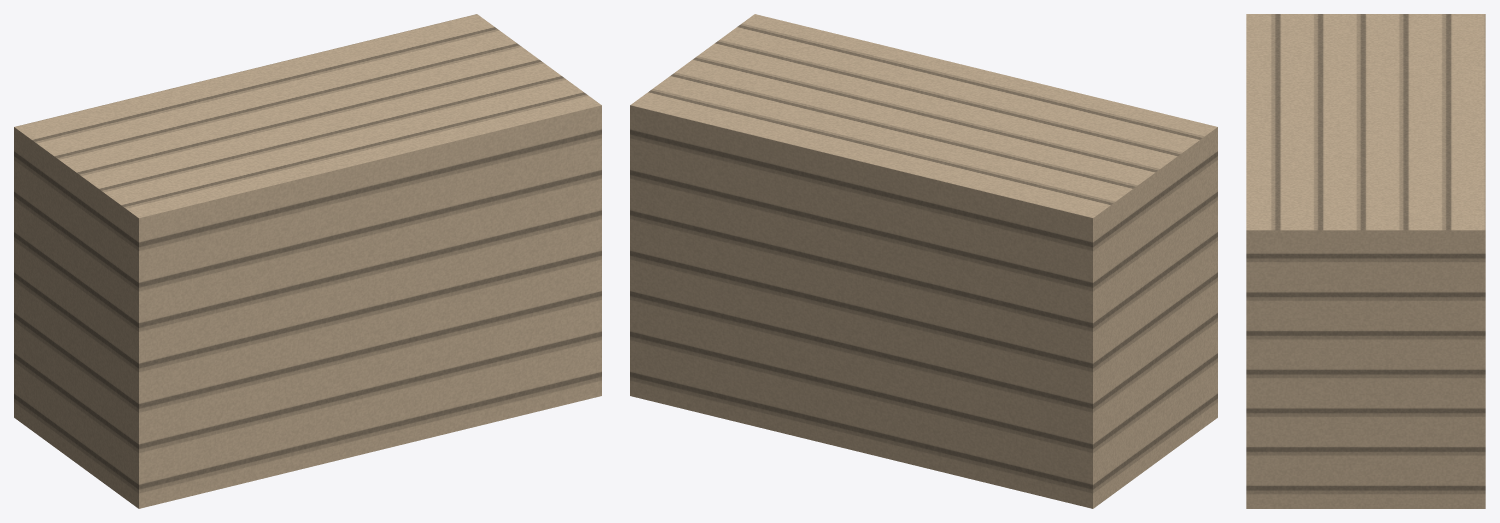
File: steam_table.glb
3 renders of one model, left to right at view 1: azimuth 30°, elevation 25°; view 2: azimuth 150°, elevation 25°; view 3: azimuth 270°, elevation 25°, orthographic. The views are drawn at different scales.
Parts seen in each view (by area): view 1: steam_table-col; view 2: steam_table-col; view 3: steam_table-col.
Part boxes in pixels (<box>): steam_table-col: <box>14,14,601,508</box>; steam_table-col: <box>630,14,1217,508</box>; steam_table-col: <box>1246,14,1485,508</box>.
Size of the model in its own units: 1.5 by 0.9 by 0.7.
Materials: 1 (1 with a texture image).
